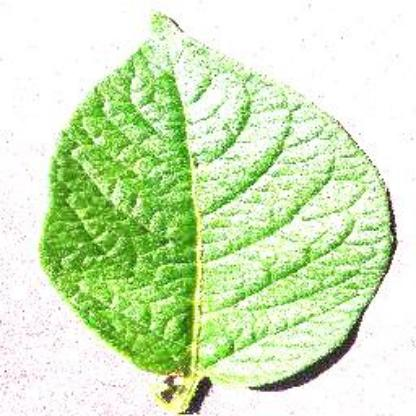Healthy-plant: (40, 7, 398, 412)
